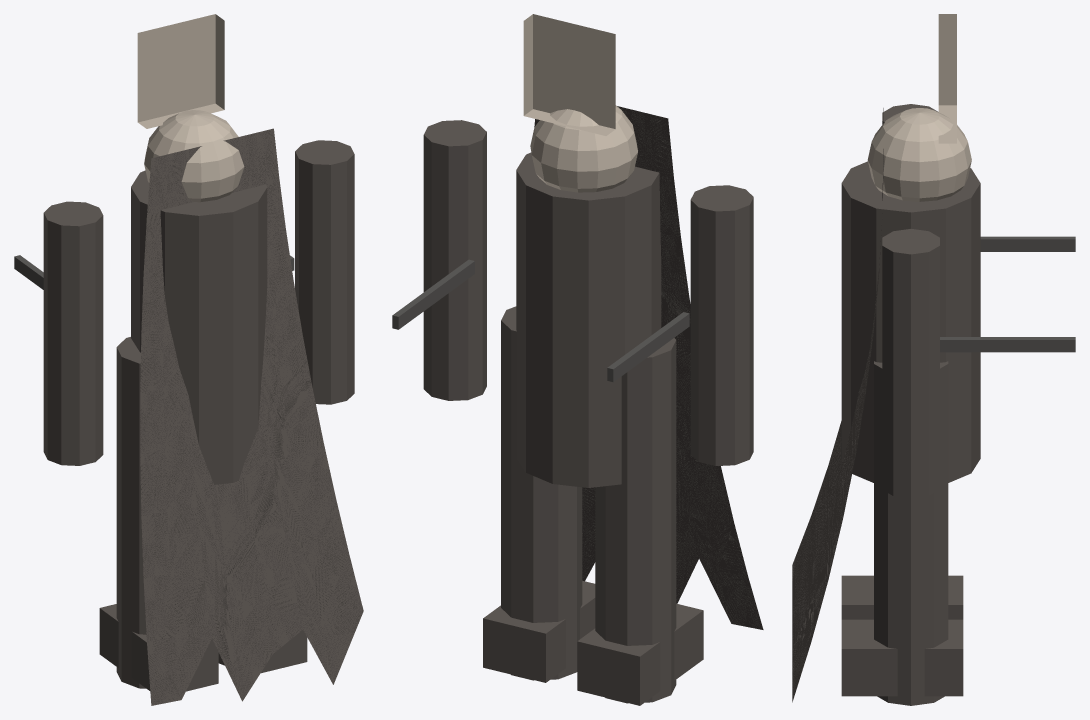
File: veil_shade.glb
The picture shows the model from 3 angles, left to right: view 1: azimuth 30°, elevation 25°; view 2: azimuth 150°, elevation 25°; view 3: azimuth 270°, elevation 25°; orthographic projection. The views are drawn at different scales.
Visible parts, largest first — view 1: veil_shade; view 2: veil_shade; view 3: veil_shade.
Part boxes in pixels (x1,y1,x2,y2): veil_shade: (14,14,363,705); veil_shade: (392,14,763,705); veil_shade: (792,14,1075,705).
Bounding box in the file's own units: 0.779 × 1.53 × 0.62.
